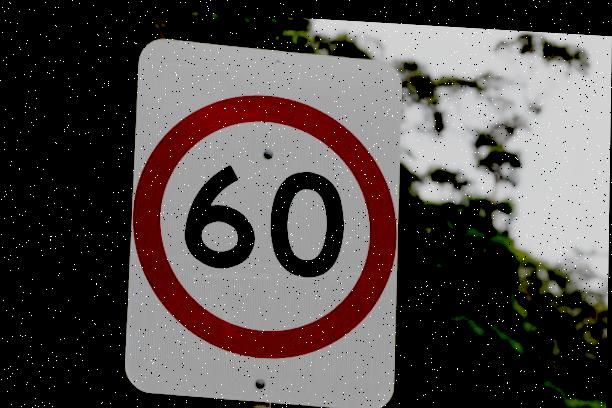Speed Limit -60-: (132, 83, 401, 364)
